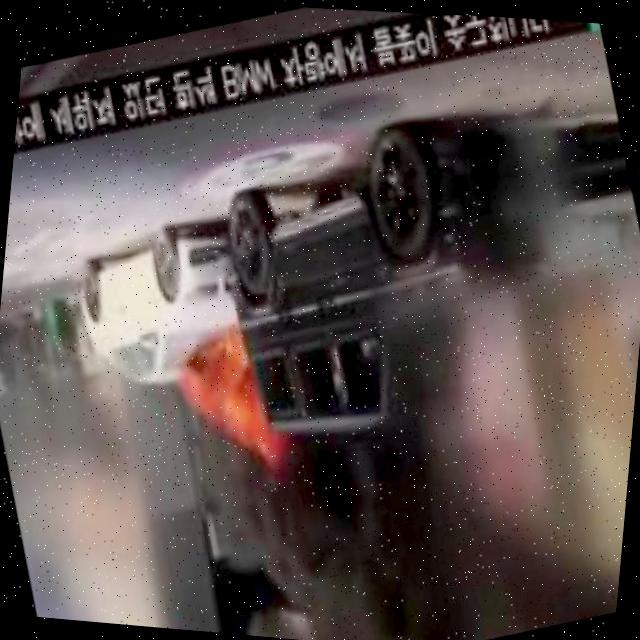fire: (167, 318, 309, 474)
